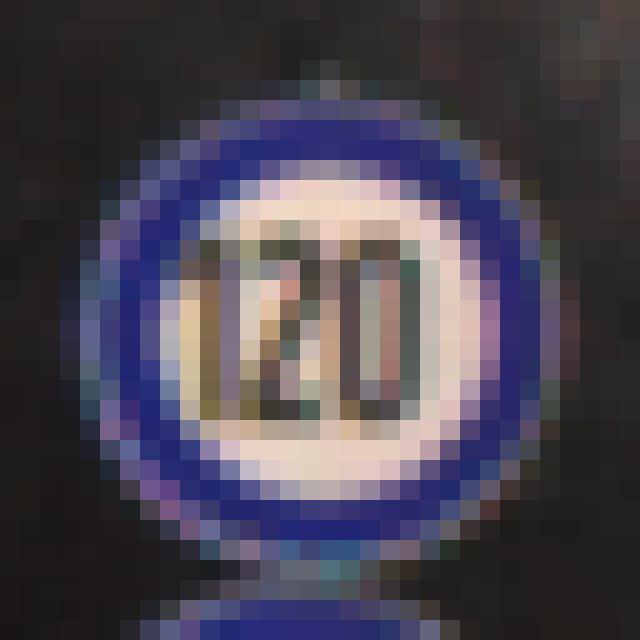SPEED LIMIT 120: (81, 121, 549, 564)
